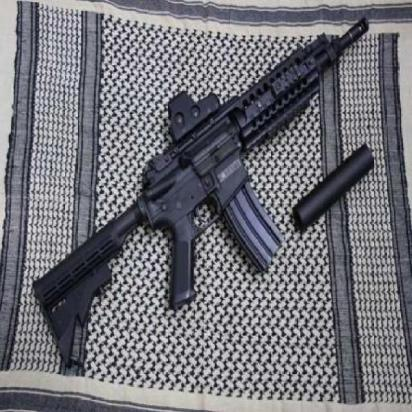Gun: (60, 19, 366, 347)
